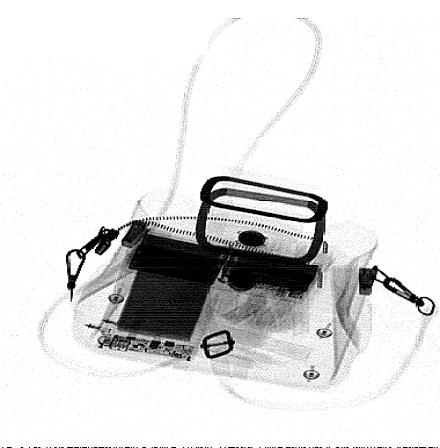Powerbank: (87, 224, 236, 364), (123, 227, 324, 306)
